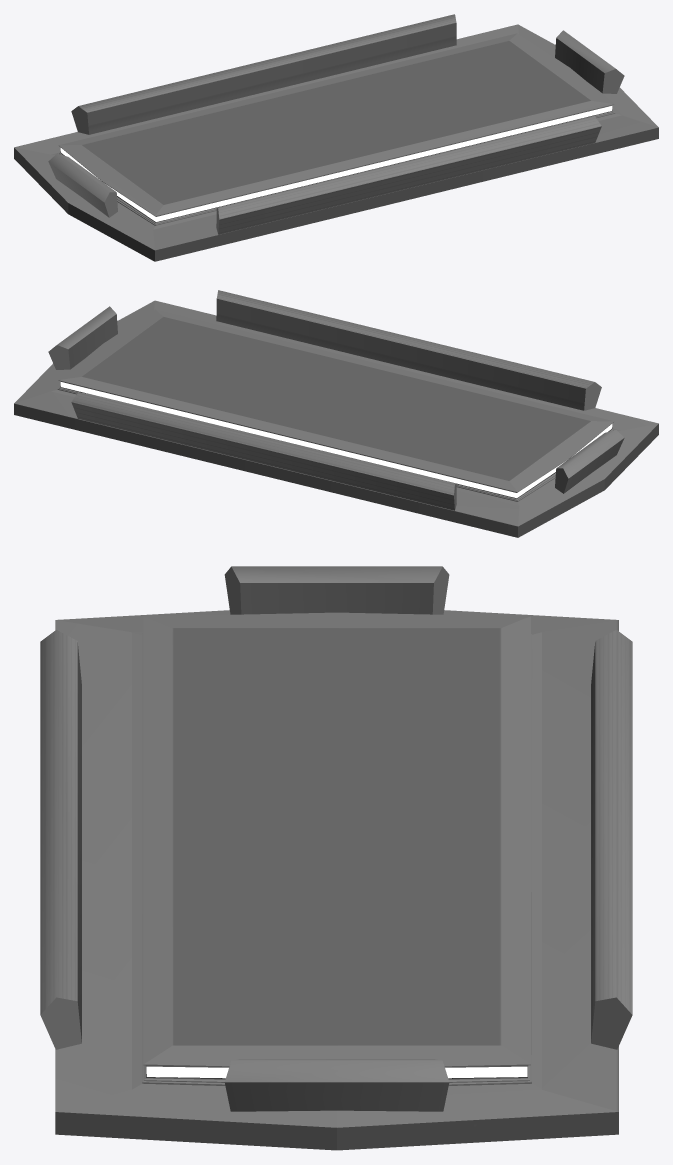
Rendered from PlatformSquaredRetangular.fbx.
3 views of the same model, one above another, from view 1: azimuth 30°, elevation 25°; view 2: azimuth 150°, elevation 25°; view 3: azimuth 270°, elevation 25° (orthographic). The views are drawn at different scales.
Visible parts, largest first — view 1: PlatformSquaredRetangular; view 2: PlatformSquaredRetangular; view 3: PlatformSquaredRetangular.
Part boxes in pixels (x1=…): PlatformSquaredRetangular: x1=14, y1=14, x2=658, y2=261; PlatformSquaredRetangular: x1=14, y1=290, x2=658, y2=537; PlatformSquaredRetangular: x1=40, y1=566, x2=632, y2=1150.
Bounding box in the file's own units: 464 × 79.88 × 222.
